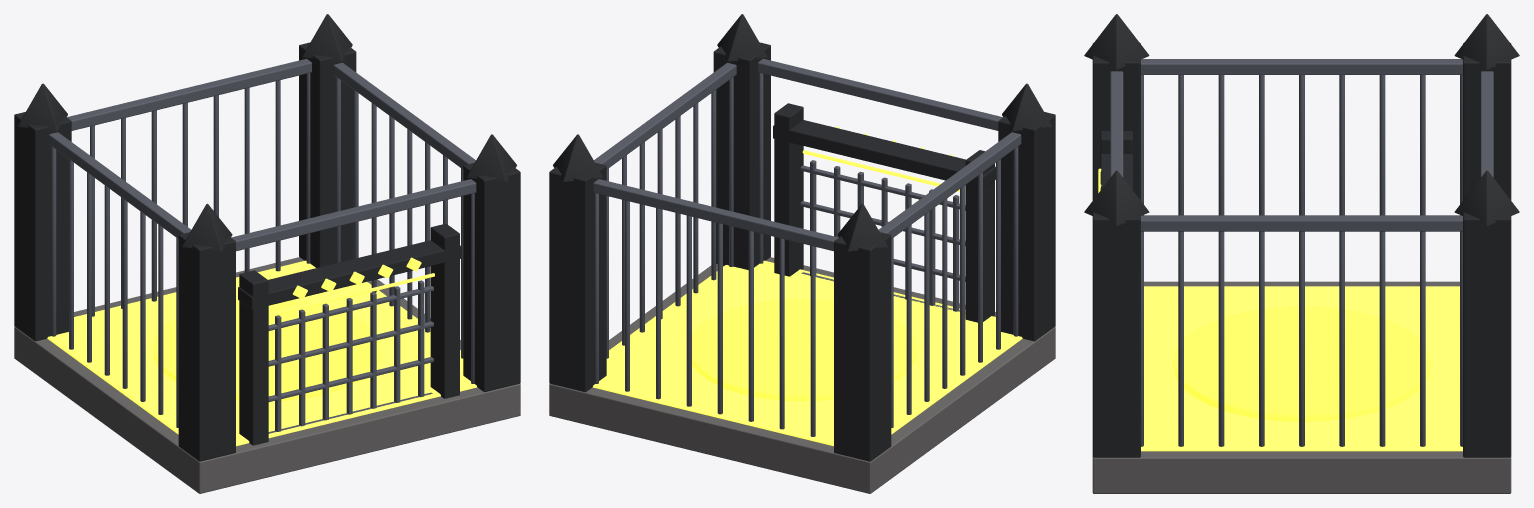
Rendered from MonsterHub_SOLAR_Pit.glb.
The picture shows the model from 3 angles, left to right: view 1: azimuth 30°, elevation 25°; view 2: azimuth 150°, elevation 25°; view 3: azimuth 270°, elevation 25°; orthographic projection. The views are drawn at different scales.
Visible parts, largest first — view 1: MonsterHub_SOLAR_Pit, MonsterHub_SOLAR_Pit_Gate; view 2: MonsterHub_SOLAR_Pit, MonsterHub_SOLAR_Pit_Gate; view 3: MonsterHub_SOLAR_Pit.
Boxes of the visible parts, box(x1,y1,x2,y2) form: MonsterHub_SOLAR_Pit: box(14, 14, 520, 493); MonsterHub_SOLAR_Pit_Gate: box(268, 273, 434, 433); MonsterHub_SOLAR_Pit: box(549, 14, 1055, 493); MonsterHub_SOLAR_Pit_Gate: box(800, 150, 965, 313); MonsterHub_SOLAR_Pit: box(1084, 14, 1519, 493).
Bounding box in the file's own units: 5.42 × 4.31 × 5.42.
